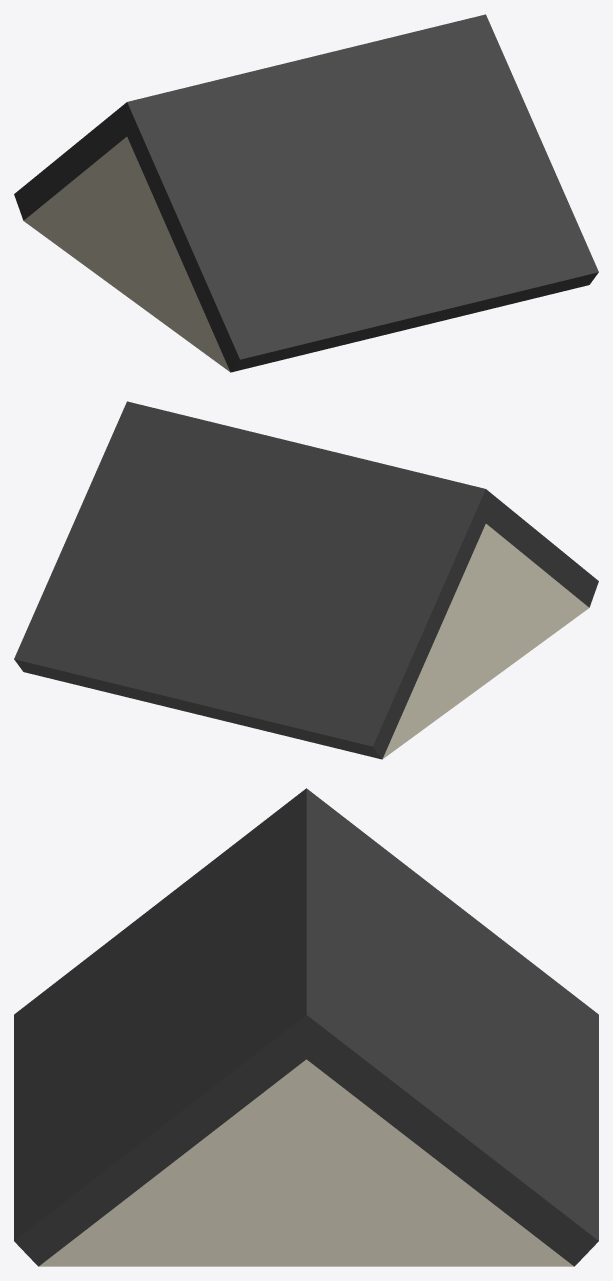
Rendered from roof_005.fbx.
3 views of the same model, one above another, from view 1: azimuth 30°, elevation 25°; view 2: azimuth 150°, elevation 25°; view 3: azimuth 270°, elevation 25° (orthographic). The views are drawn at different scales.
Parts seen in each view (by area): view 1: roof_005; view 2: roof_005; view 3: roof_005.
Part boxes in pixels (box(x1,y1,x2,y2)): roof_005: box(14, 14, 598, 372); roof_005: box(14, 401, 598, 759); roof_005: box(14, 788, 598, 1266).
Bounding box in the file's own units: 10 × 5.19 × 10.91.
